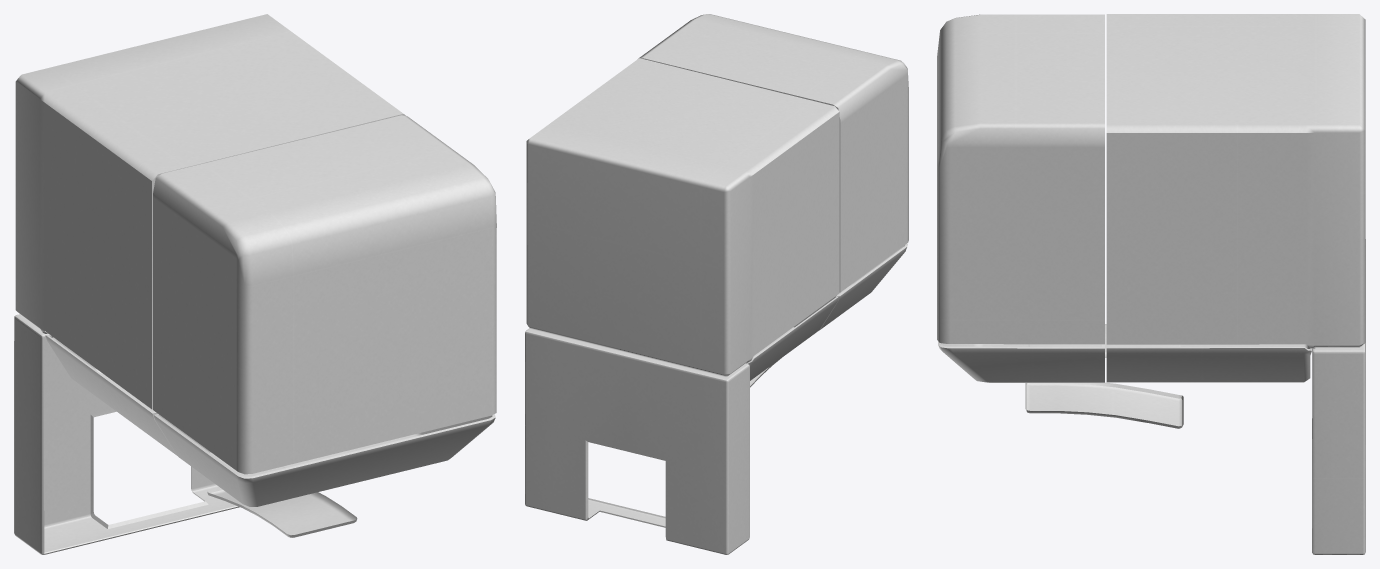
The model's file is MeshCoffeeMachine_1_0_GeomSubset_0.obj.
The picture shows the model from 3 angles, left to right: view 1: azimuth 30°, elevation 25°; view 2: azimuth 150°, elevation 25°; view 3: azimuth 270°, elevation 25°; orthographic projection. The views are drawn at different scales.
Parts seen in each view (by area): view 1: MeshCoffeeMachine_1_0_GeomSubset_0; view 2: MeshCoffeeMachine_1_0_GeomSubset_0; view 3: MeshCoffeeMachine_1_0_GeomSubset_0.
Boxes of the visible parts, x1,y1,x2,y2 form: MeshCoffeeMachine_1_0_GeomSubset_0: [14, 14, 496, 554]; MeshCoffeeMachine_1_0_GeomSubset_0: [525, 14, 908, 554]; MeshCoffeeMachine_1_0_GeomSubset_0: [937, 14, 1365, 554].
Bounding box in the file's own units: 0.2808 × 0.4824 × 0.4369.
